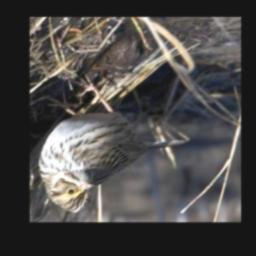Sparrow: (37, 75, 188, 214)
